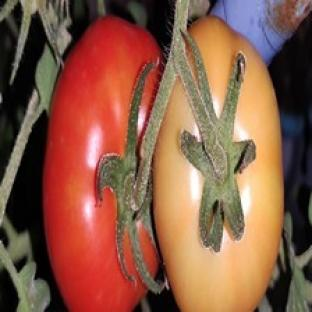Tomato: (154, 17, 282, 311), (44, 17, 161, 311)
